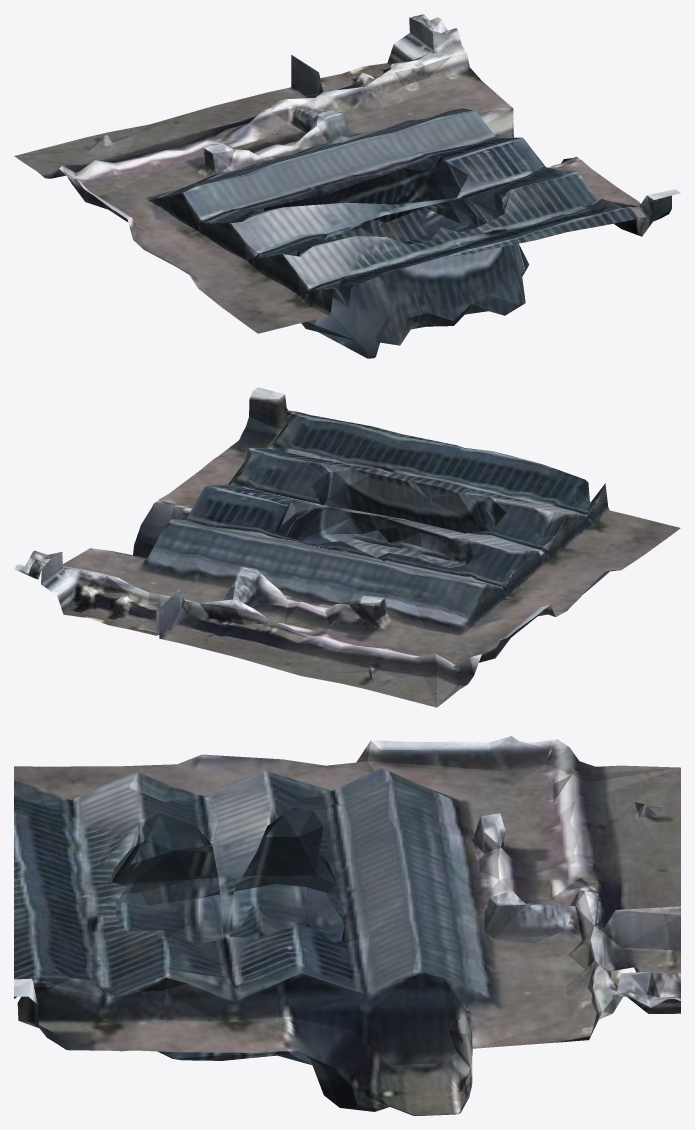
File: helsinki-0-7.glb
3 views of the same model, one above another, from view 1: azimuth 30°, elevation 25°; view 2: azimuth 150°, elevation 25°; view 3: azimuth 270°, elevation 25° (orthographic). The views are drawn at different scales.
Bounding box in the file's own units: 31.5 × 8.2 × 31.5.
1 material, 1 textured.
